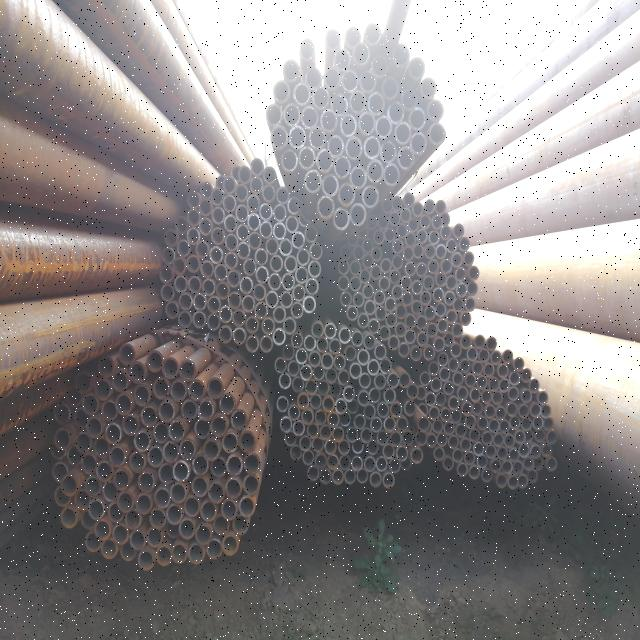pipe: (358, 110, 377, 138), (302, 168, 322, 194), (300, 104, 320, 130), (319, 108, 339, 134), (348, 164, 368, 190), (332, 154, 352, 180), (350, 40, 370, 66), (392, 120, 412, 146), (270, 124, 288, 152), (324, 66, 342, 94), (316, 148, 334, 176), (117, 342, 137, 367), (110, 368, 130, 393), (121, 412, 141, 437), (303, 64, 322, 90), (337, 181, 356, 207), (407, 106, 426, 132), (349, 201, 367, 228), (332, 206, 352, 230), (93, 378, 113, 402), (329, 92, 348, 117), (96, 354, 115, 379), (298, 36, 316, 62), (282, 58, 300, 84), (280, 146, 298, 172), (308, 124, 326, 150), (322, 172, 340, 198), (340, 112, 358, 138), (408, 56, 426, 82), (428, 120, 446, 146), (397, 146, 415, 172), (380, 138, 398, 164), (362, 134, 380, 160), (400, 86, 418, 112), (386, 100, 404, 126), (180, 397, 198, 423), (133, 428, 151, 454), (289, 124, 306, 151), (344, 136, 363, 160), (348, 90, 367, 114), (187, 378, 206, 402), (137, 470, 156, 494), (220, 532, 239, 556), (265, 102, 283, 127), (366, 158, 384, 183), (359, 69, 377, 94), (64, 383, 82, 408), (54, 402, 72, 427), (162, 356, 180, 381), (157, 399, 175, 424), (162, 440, 180, 465), (112, 466, 130, 491), (210, 414, 228, 439), (382, 162, 399, 188), (392, 42, 409, 68), (128, 452, 148, 474), (148, 507, 168, 529), (272, 80, 290, 104), (298, 146, 316, 170), (318, 196, 336, 220), (324, 28, 342, 52), (333, 48, 351, 72), (283, 102, 301, 126), (312, 85, 330, 109), (361, 184, 379, 208), (364, 22, 382, 46), (420, 76, 438, 100), (381, 77, 399, 101), (128, 360, 146, 384), (74, 371, 92, 395), (54, 427, 72, 451), (100, 398, 118, 422), (114, 392, 132, 416), (133, 383, 151, 407), (146, 349, 164, 373), (179, 358, 197, 382), (152, 376, 170, 400), (169, 378, 187, 402), (108, 444, 126, 468), (146, 444, 164, 468), (152, 420, 170, 444), (84, 474, 102, 498), (60, 506, 78, 530), (112, 522, 130, 546), (102, 478, 120, 502), (96, 459, 114, 483), (137, 548, 155, 572), (172, 459, 190, 483), (170, 480, 188, 504), (200, 499, 218, 523), (206, 376, 224, 400), (238, 429, 256, 453), (243, 451, 261, 475), (238, 494, 256, 518), (190, 474, 208, 498), (178, 438, 196, 462), (91, 437, 110, 459), (220, 498, 239, 520), (345, 25, 361, 51), (292, 83, 310, 106), (426, 99, 444, 122), (368, 92, 386, 115), (74, 431, 92, 454), (104, 422, 122, 445), (84, 530, 102, 553), (116, 491, 134, 514), (134, 492, 152, 515), (182, 495, 200, 518), (218, 392, 236, 415), (192, 452, 210, 475), (222, 431, 240, 454), (194, 416, 212, 439), (341, 68, 358, 92), (327, 134, 344, 158), (371, 54, 388, 78), (206, 536, 223, 560), (198, 398, 215, 422), (203, 438, 220, 462), (51, 461, 70, 482), (85, 416, 103, 438), (140, 406, 158, 428), (60, 474, 78, 496), (54, 485, 72, 507), (94, 518, 112, 540), (100, 537, 118, 559), (107, 501, 125, 523), (124, 508, 142, 530), (170, 542, 188, 564), (212, 514, 230, 536), (232, 513, 250, 535), (230, 408, 248, 430), (242, 474, 260, 496), (208, 482, 226, 504), (209, 456, 227, 478), (210, 203, 227, 226), (88, 498, 105, 521), (166, 502, 183, 525), (225, 476, 242, 499), (410, 132, 426, 156), (80, 451, 96, 475), (158, 461, 174, 485), (81, 393, 98, 415), (168, 420, 185, 442), (188, 542, 205, 564), (195, 522, 212, 544), (226, 454, 243, 476), (74, 488, 90, 511), (147, 525, 163, 548), (154, 486, 170, 509), (49, 440, 67, 460), (186, 188, 202, 210), (66, 445, 82, 467), (80, 508, 96, 530), (130, 529, 146, 551), (156, 544, 172, 566), (178, 518, 194, 540), (260, 182, 276, 202), (186, 208, 202, 228), (163, 228, 179, 248), (158, 264, 174, 284), (120, 542, 136, 562), (250, 156, 264, 178), (174, 214, 188, 236), (234, 202, 248, 224), (159, 283, 175, 302), (206, 312, 222, 331), (244, 334, 260, 353), (171, 256, 186, 276), (178, 292, 193, 312), (245, 314, 260, 334), (271, 326, 286, 346), (176, 239, 192, 257), (164, 302, 180, 320), (206, 296, 222, 314), (164, 522, 180, 540), (187, 252, 200, 274), (366, 358, 381, 377), (356, 388, 371, 407), (352, 412, 367, 431), (238, 164, 252, 184), (276, 186, 290, 206), (250, 176, 264, 196), (234, 182, 248, 202), (246, 194, 260, 214), (259, 201, 273, 221), (272, 202, 286, 222), (304, 224, 318, 244), (186, 226, 200, 246), (174, 274, 188, 294), (188, 275, 202, 295), (195, 240, 209, 260), (209, 244, 223, 264), (201, 258, 215, 278), (214, 262, 228, 282), (222, 194, 236, 214), (224, 213, 238, 233), (224, 232, 238, 252), (224, 250, 238, 270), (236, 222, 250, 242), (248, 230, 262, 250), (273, 221, 287, 241), (265, 236, 279, 256), (254, 246, 268, 266), (239, 275, 253, 295), (255, 264, 269, 284), (270, 254, 284, 274), (284, 254, 298, 274), (296, 247, 310, 267), (309, 241, 323, 261), (192, 310, 206, 330), (216, 280, 230, 300), (218, 304, 232, 324), (218, 324, 232, 344), (232, 326, 246, 346), (232, 308, 246, 328), (228, 290, 242, 310), (252, 282, 266, 302), (272, 304, 286, 324), (282, 316, 296, 336), (268, 272, 282, 292), (294, 265, 308, 285), (305, 276, 319, 296), (279, 288, 293, 308), (299, 362, 313, 382), (308, 348, 322, 368), (314, 450, 328, 470), (383, 414, 397, 434), (74, 406, 86, 429), (198, 198, 213, 216), (261, 316, 276, 334), (332, 353, 347, 371), (373, 342, 388, 360), (382, 386, 397, 404), (409, 446, 424, 464), (222, 175, 236, 194), (262, 166, 276, 185), (285, 214, 299, 233), (242, 294, 256, 313), (254, 301, 268, 320), (292, 283, 306, 302), (278, 372, 292, 391), (378, 356, 392, 375), (296, 392, 310, 411), (287, 194, 300, 214), (237, 240, 250, 260), (287, 358, 300, 378), (334, 396, 347, 416), (210, 188, 224, 206), (211, 227, 225, 245), (291, 231, 305, 249), (279, 238, 293, 256), (242, 258, 256, 276), (308, 260, 322, 278), (178, 310, 192, 328), (193, 292, 207, 310), (201, 278, 215, 296), (260, 334, 274, 352), (265, 290, 279, 308), (282, 272, 296, 290), (302, 296, 316, 314), (290, 302, 304, 320), (290, 331, 304, 349), (281, 343, 295, 361), (304, 378, 318, 396), (338, 327, 352, 345), (328, 337, 342, 355), (356, 348, 370, 366), (358, 371, 372, 389), (373, 372, 387, 390), (300, 408, 314, 426), (298, 434, 312, 452), (322, 395, 336, 413), (318, 424, 332, 442), (376, 428, 390, 446), (416, 415, 430, 433), (337, 274, 351, 292), (377, 324, 391, 342), (227, 269, 240, 288), (321, 352, 334, 371), (398, 369, 411, 388), (248, 212, 260, 232), (260, 220, 272, 240), (306, 465, 321, 481), (323, 439, 338, 455), (390, 428, 402, 448), (198, 218, 212, 235), (310, 321, 324, 338), (342, 385, 356, 402), (331, 426, 345, 443), (380, 197, 394, 214), (339, 243, 353, 260), (200, 182, 213, 200), (162, 247, 175, 265), (295, 347, 308, 365), (324, 322, 337, 340), (351, 330, 364, 348), (337, 368, 350, 386), (349, 361, 362, 379), (284, 430, 297, 448), (309, 392, 322, 410), (326, 411, 339, 429), (419, 212, 432, 230), (349, 258, 362, 276), (349, 274, 362, 292), (423, 304, 436, 322), (487, 375, 500, 393), (396, 443, 408, 462), (368, 472, 382, 488), (414, 430, 428, 446), (374, 305, 388, 321), (388, 268, 402, 284), (422, 275, 436, 291), (476, 416, 490, 432), (488, 458, 502, 474), (544, 429, 558, 445), (274, 356, 287, 373), (291, 376, 304, 393), (317, 379, 330, 396), (386, 372, 399, 389), (311, 436, 324, 453), (415, 228, 428, 245), (336, 259, 349, 276), (394, 321, 407, 338), (419, 289, 432, 306), (439, 406, 452, 423), (476, 373, 489, 390), (505, 401, 518, 418), (231, 164, 242, 184), (316, 335, 328, 353), (324, 366, 336, 384), (345, 344, 357, 362), (364, 333, 376, 351), (406, 382, 418, 400), (369, 386, 381, 404), (280, 415, 292, 433), (290, 444, 302, 462), (306, 422, 318, 440), (338, 438, 350, 456), (332, 468, 344, 486), (356, 466, 368, 484), (360, 426, 372, 444), (364, 404, 376, 422), (404, 400, 416, 418), (396, 415, 408, 433), (366, 438, 378, 456), (364, 454, 376, 472), (376, 454, 388, 472), (382, 442, 394, 460), (432, 213, 444, 231), (439, 222, 451, 240), (452, 222, 464, 240), (366, 212, 378, 230), (396, 221, 408, 239), (352, 244, 364, 262), (340, 290, 352, 308), (346, 304, 358, 322), (362, 252, 374, 270), (362, 282, 374, 300), (410, 344, 422, 362), (395, 303, 407, 321), (401, 290, 413, 308), (424, 242, 436, 260), (427, 258, 439, 276), (440, 257, 452, 275), (444, 288, 456, 306), (415, 314, 427, 332), (442, 330, 454, 348), (419, 370, 431, 388), (430, 376, 442, 394), (508, 384, 520, 402), (469, 386, 481, 404), (484, 402, 496, 420), (488, 416, 500, 434), (494, 404, 506, 422), (292, 421, 306, 436), (319, 469, 332, 485), (338, 454, 351, 470), (370, 416, 383, 432), (388, 457, 401, 473), (399, 207, 412, 223), (363, 300, 376, 316), (378, 275, 391, 291), (391, 254, 404, 270), (391, 284, 404, 300), (384, 296, 397, 312), (385, 312, 398, 328), (462, 252, 475, 268), (445, 308, 458, 324), (459, 310, 472, 326), (451, 322, 464, 338), (427, 405, 440, 421), (489, 350, 502, 366), (466, 346, 479, 362), (438, 366, 451, 382), (459, 436, 472, 452), (498, 377, 511, 393), (498, 418, 511, 434), (304, 334, 316, 351), (276, 395, 288, 412), (288, 404, 300, 421), (315, 409, 327, 426), (327, 453, 339, 470), (390, 401, 402, 418), (382, 472, 394, 489), (402, 429, 414, 446), (408, 215, 420, 232), (357, 312, 369, 329), (368, 317, 380, 334), (380, 257, 392, 274), (398, 341, 410, 358), (416, 330, 428, 347), (404, 312, 416, 329), (435, 243, 447, 260), (416, 261, 428, 278), (435, 271, 447, 288), (411, 279, 423, 296), (456, 281, 468, 298), (426, 322, 438, 339), (442, 455, 454, 472), (443, 419, 455, 436), (435, 391, 447, 408), (459, 357, 471, 374), (448, 394, 460, 411), (502, 348, 514, 365), (483, 362, 495, 379), (520, 387, 532, 404), (480, 387, 492, 404), (496, 471, 508, 488), (501, 458, 513, 475), (506, 474, 518, 491), (517, 402, 529, 419), (537, 389, 549, 406), (392, 193, 402, 213), (331, 380, 342, 398), (424, 198, 435, 216), (435, 198, 446, 216), (529, 376, 540, 394), (523, 454, 534, 472), (346, 233, 360, 247), (459, 334, 472, 349), (313, 364, 325, 380), (302, 450, 314, 466), (339, 412, 351, 428), (344, 468, 356, 484), (351, 455, 363, 471), (352, 438, 364, 454), (376, 402, 388, 418), (412, 201, 424, 217), (428, 229, 440, 245), (378, 213, 390, 229), (372, 228, 384, 244), (384, 228, 396, 244), (392, 238, 404, 254), (362, 237, 374, 253), (352, 292, 364, 308), (370, 246, 382, 262), (374, 289, 386, 305), (370, 264, 382, 280), (388, 334, 400, 350), (423, 344, 435, 360), (404, 329, 416, 345), (411, 299, 423, 315), (400, 275, 412, 291), (404, 261, 416, 277), (402, 246, 414, 262), (404, 231, 416, 247), (450, 252, 462, 268), (458, 236, 470, 252), (468, 266, 480, 282), (455, 267, 467, 283), (445, 275, 457, 291), (432, 287, 444, 303), (464, 296, 476, 312), (452, 297, 464, 313), (435, 302, 447, 318), (436, 317, 448, 333), (432, 336, 444, 352), (436, 351, 448, 367), (432, 418, 444, 434), (433, 446, 445, 462), (436, 431, 448, 447), (450, 342, 462, 358), (474, 334, 486, 350), (486, 336, 498, 352), (442, 380, 454, 396), (452, 371, 464, 387), (457, 385, 469, 401), (450, 408, 462, 424), (455, 422, 467, 438), (448, 434, 460, 450), (456, 461, 468, 477), (464, 450, 476, 466), (468, 464, 480, 480), (480, 467, 492, 483), (512, 356, 524, 372), (472, 360, 484, 376), (496, 362, 508, 378), (509, 370, 521, 386), (465, 372, 477, 388), (484, 443, 496, 459), (496, 444, 508, 460), (492, 431, 504, 447), (530, 402, 542, 418), (520, 416, 532, 432), (532, 416, 544, 432), (541, 442, 553, 458), (546, 456, 558, 472), (514, 429, 526, 445), (508, 447, 520, 463), (512, 460, 524, 476), (518, 442, 530, 458), (491, 392, 504, 406), (215, 174, 227, 189), (346, 398, 358, 413), (346, 427, 358, 442), (414, 242, 424, 260), (428, 361, 440, 376), (478, 348, 490, 363), (448, 357, 460, 372), (461, 401, 473, 416), (451, 448, 463, 463), (472, 441, 484, 456), (476, 454, 488, 469), (464, 414, 476, 429), (520, 368, 532, 383), (481, 431, 493, 446), (534, 428, 546, 443), (530, 444, 542, 459), (504, 434, 516, 449), (446, 238, 457, 254), (467, 281, 478, 297), (469, 427, 480, 443), (541, 402, 552, 418), (360, 267, 370, 284), (426, 390, 436, 407), (510, 414, 520, 431), (358, 226, 370, 240), (542, 417, 554, 431), (526, 469, 538, 483), (472, 401, 483, 416), (418, 384, 427, 402), (402, 456, 412, 472), (404, 192, 414, 208), (426, 432, 436, 448), (524, 428, 534, 444), (534, 456, 544, 472), (418, 401, 428, 416), (518, 474, 528, 489), (442, 210, 451, 226)
